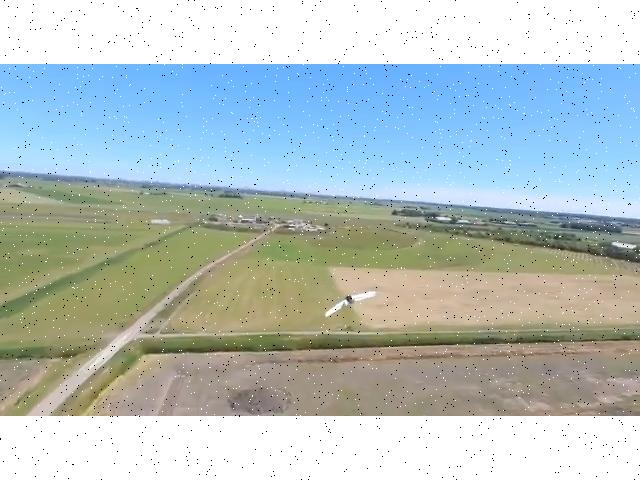Anti-Drone: (314, 274, 386, 346)
